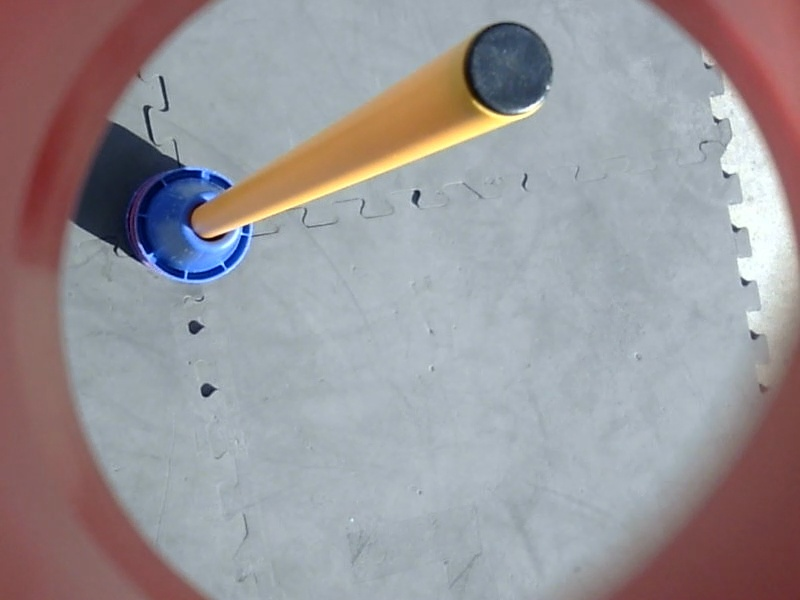tip: (459, 16, 559, 124)
